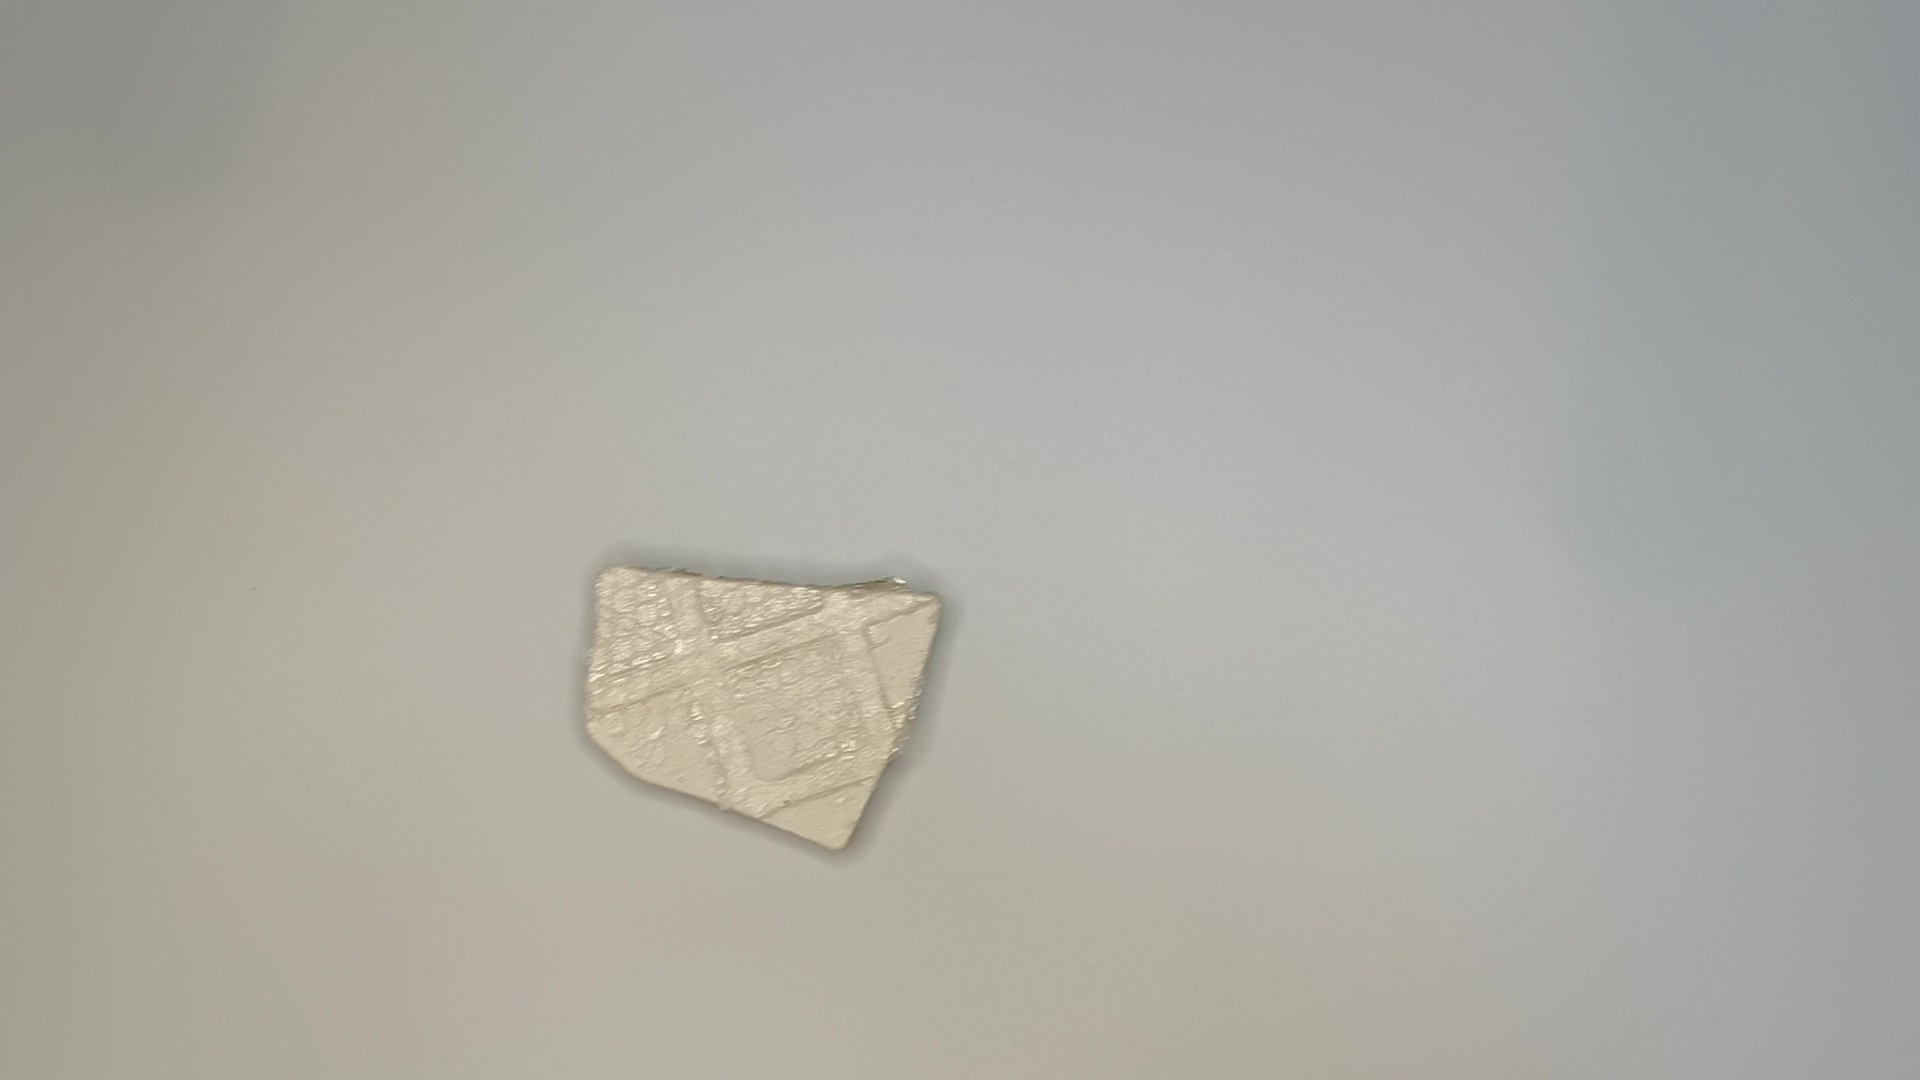ceramic: (575, 554, 953, 857)
